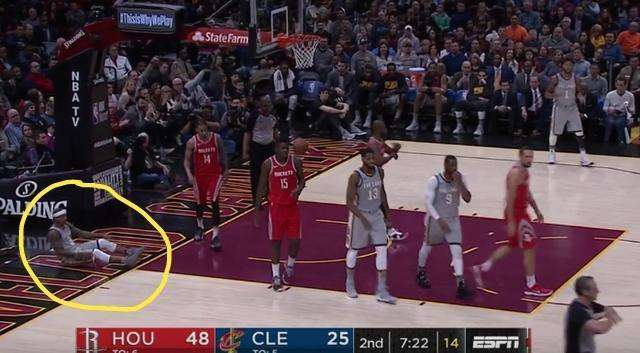10+: (1, 1, 639, 351)
down: (42, 202, 161, 287)
